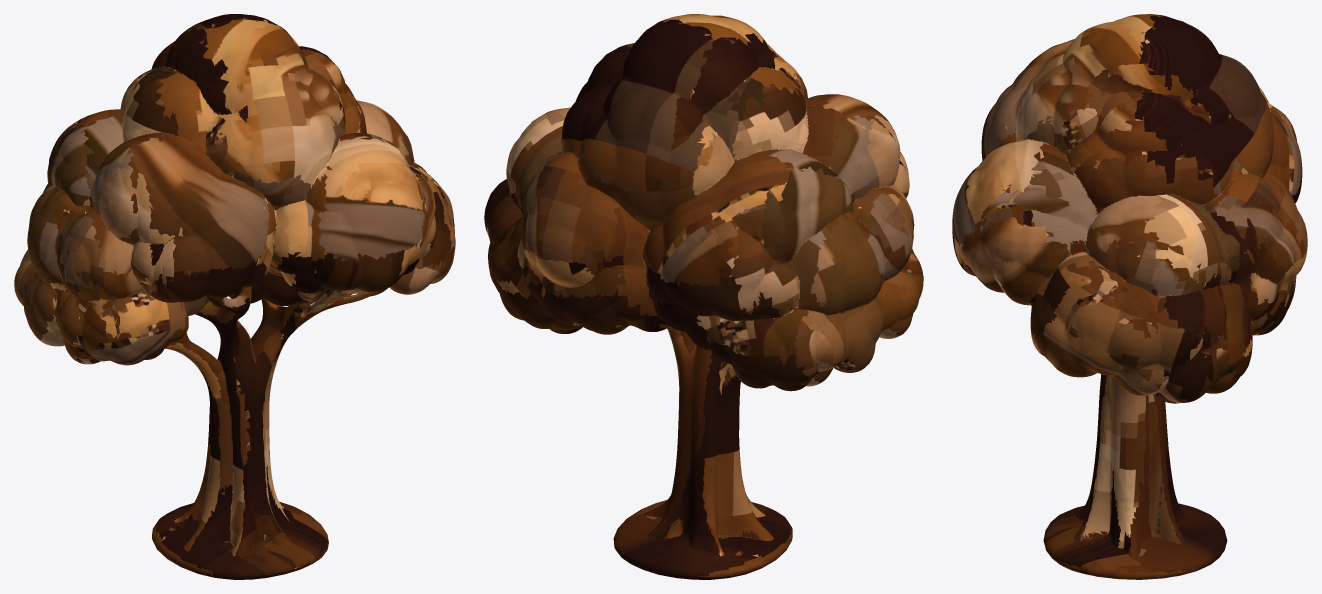
Rendered from Arbol.fbx.
The picture shows the model from 3 angles, left to right: view 1: azimuth 30°, elevation 25°; view 2: azimuth 150°, elevation 25°; view 3: azimuth 270°, elevation 25°; orthographic projection.
Parts seen in each view (by area): view 1: model.005; view 2: model.005; view 3: model.005.
Boxes of the visible parts, left/top/right/bottom form: model.005: left=14, top=14, right=455, bottom=579; model.005: left=484, top=14, right=923, bottom=579; model.005: left=952, top=14, right=1307, bottom=579.
Bounding box in the file's own units: 149 × 190 × 115.
